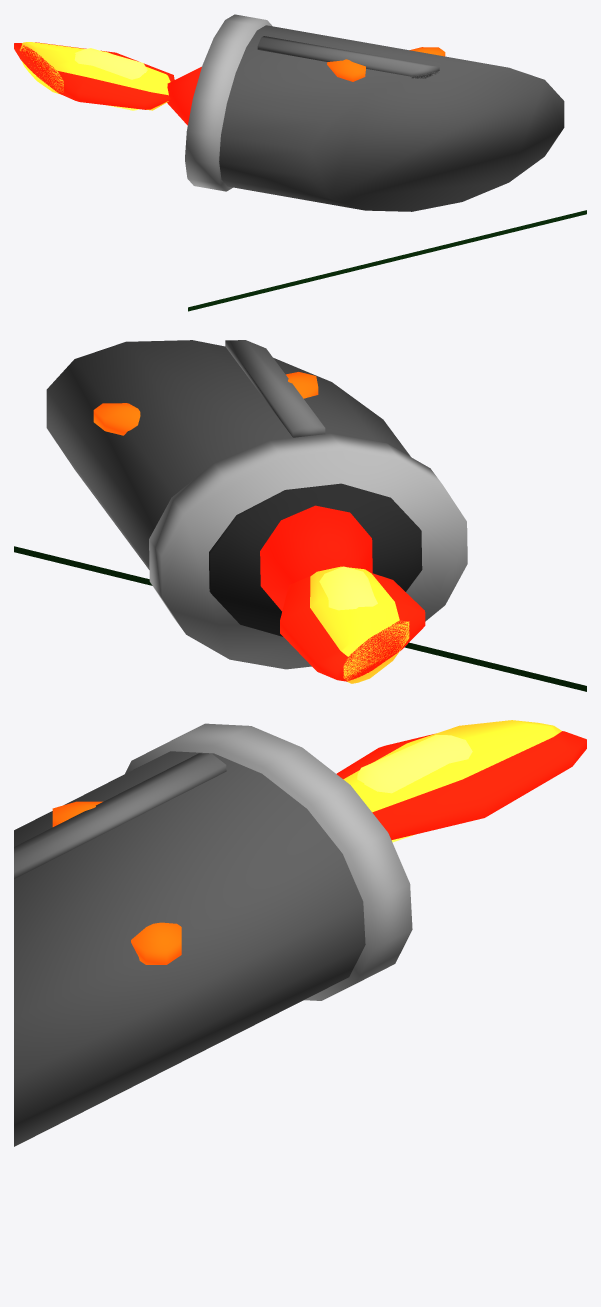
The model's file is newshj-55-f3.glb.
3 renders of one model, top to bottom at view 1: azimuth 30°, elevation 25°; view 2: azimuth 150°, elevation 25°; view 3: azimuth 270°, elevation 25°, orthographic. The views are drawn at different scales.
Visible parts, largest first — view 1: newshj-55, newshj-55-flame-short, newshj-55-lights-19; view 2: newshj-55, newshj-55-flame-short, newshj-55-lights-19; view 3: newshj-55, newshj-55-flame-short, newshj-55-lights-19.
Boxes of the visible parts, <box> form: newshj-55: <box>167,14,586,311</box>; newshj-55-flame-short: <box>14,42,174,110</box>; newshj-55-lights-19: <box>327,47,445,81</box>; newshj-55: <box>14,340,586,691</box>; newshj-55-flame-short: <box>280,566,425,683</box>; newshj-55-lights-19: <box>93,372,318,435</box>; newshj-55: <box>14,723,412,1146</box>; newshj-55-flame-short: <box>336,720,586,842</box>; newshj-55-lights-19: <box>52,801,181,964</box>.
Bounding box in the file's own units: 2 × 0.9447 × 1.51.
